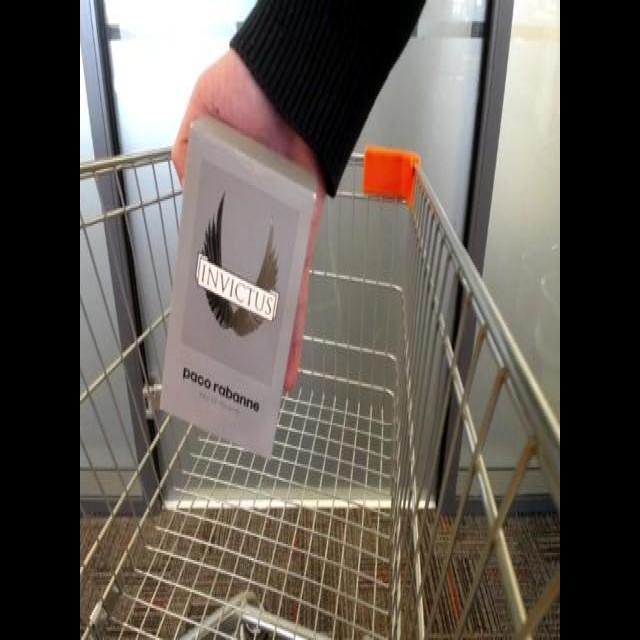Paco Rabanne: (152, 120, 330, 460)
